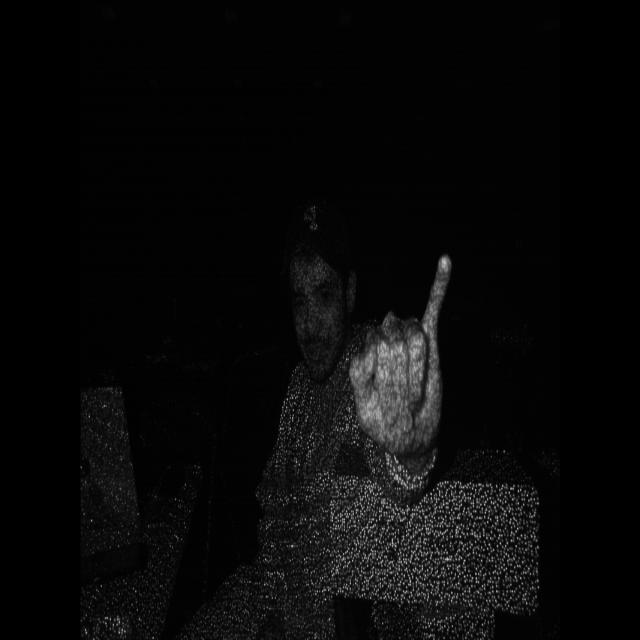I: (345, 237, 475, 511)
